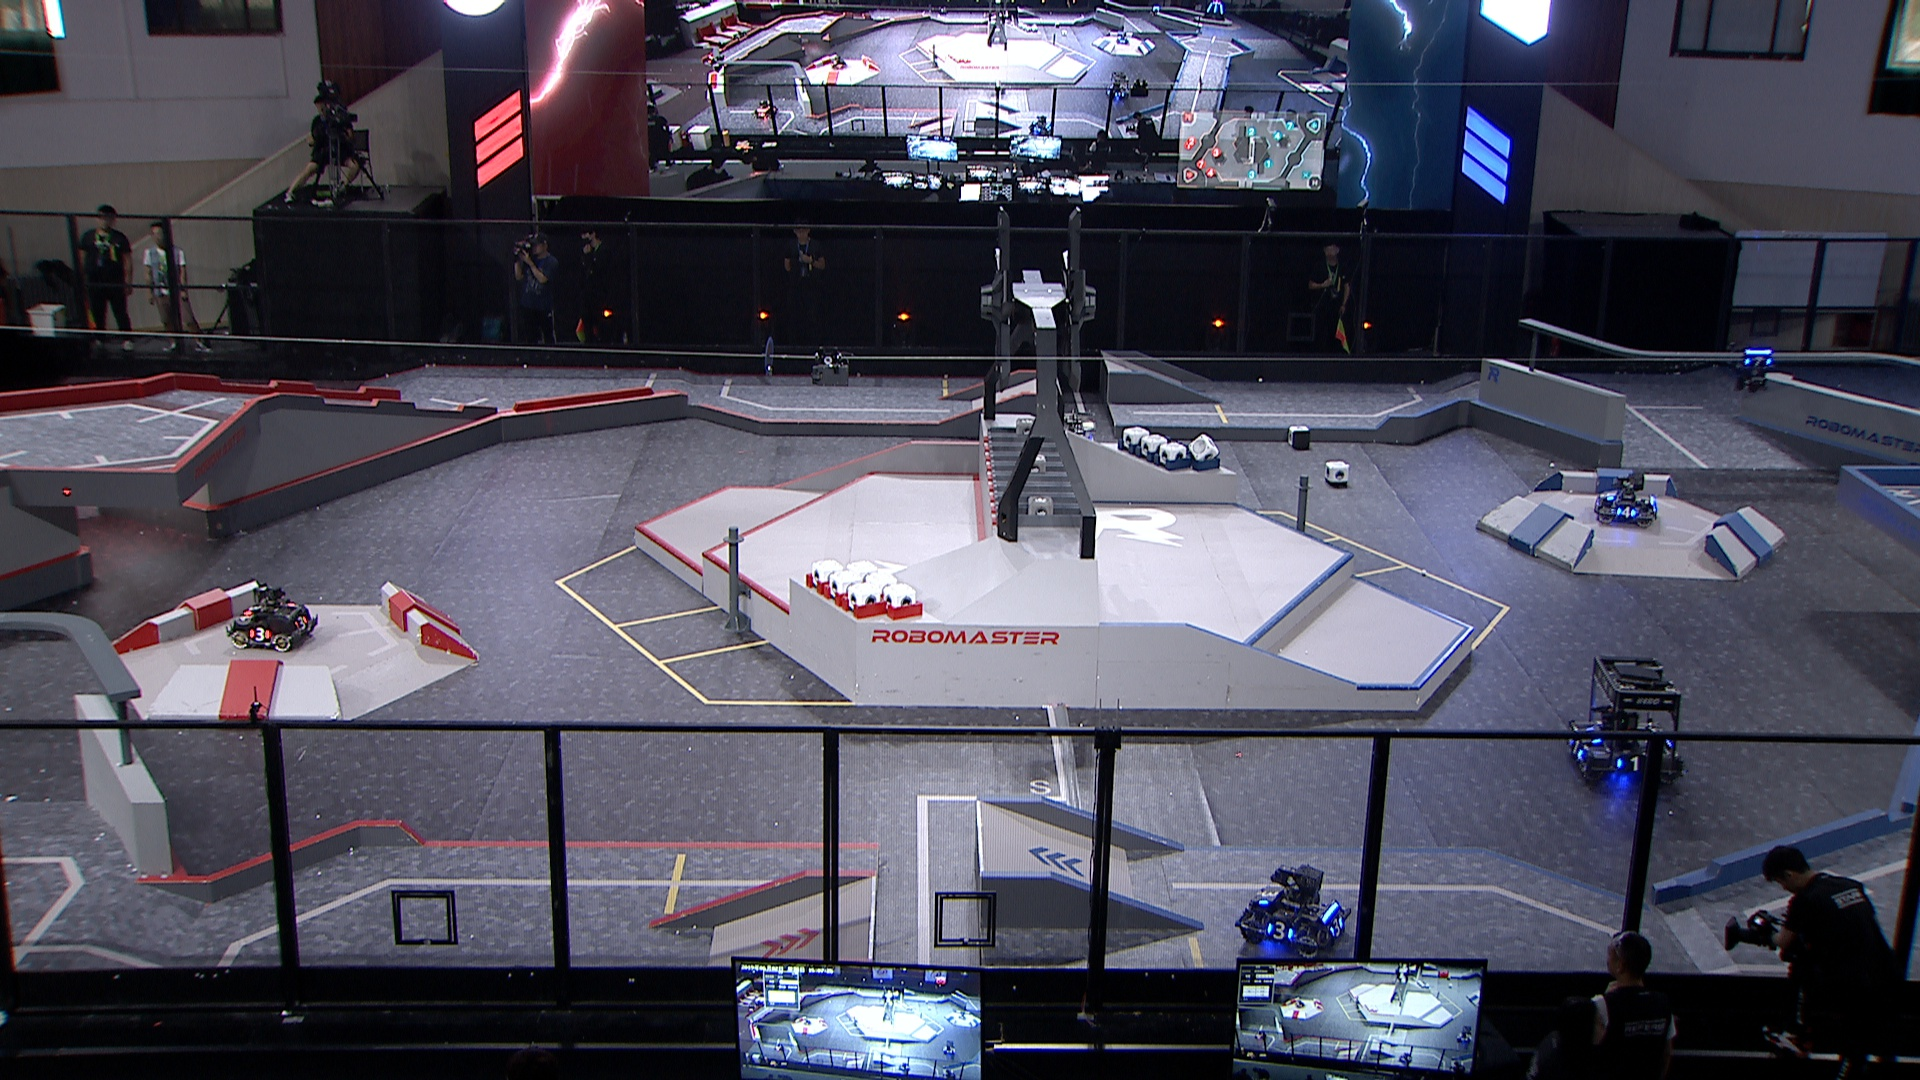armor: (1266, 920, 1296, 944), (1614, 754, 1643, 774), (1258, 885, 1280, 907), (1742, 353, 1774, 368), (1567, 736, 1585, 760), (247, 624, 272, 641), (1331, 915, 1346, 938), (1614, 505, 1636, 520), (291, 612, 309, 629), (243, 603, 262, 616)
car: (1565, 655, 1684, 789), (1233, 864, 1352, 963), (222, 583, 318, 654), (1592, 472, 1659, 531)
ignore: (1102, 71, 1131, 100), (1027, 113, 1054, 138), (752, 98, 779, 120), (1203, 0, 1226, 22), (828, 51, 847, 69), (1116, 32, 1130, 45)
watcher: (1731, 343, 1775, 392)
